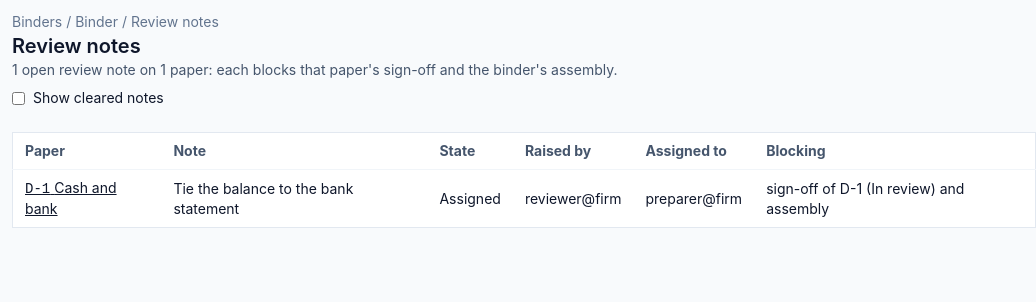
it: screen 3 lists what is open, who raised it, who holds it, and what it blocks
expect the heading "Review notes" is shown: met, box [12,34,141,58]
expect the text with test id "summary" shows "1 open review note on 1 paper": met, box [12,61,618,78]
Click the checkbox labelled "Show cleared notes" at (18, 98), box [12,92,25,104]
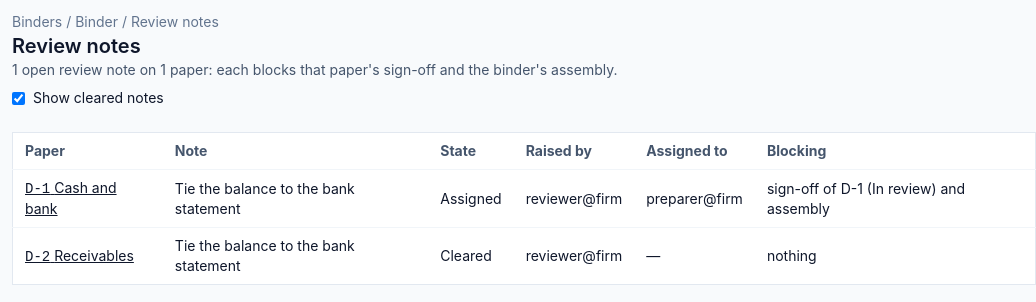
expect the number of rows with test id "note-row" is 2: met, box [12,170,1035,228]; [12,228,1035,284]
expect the row with test id "note-row" shows "nothing": met, box [767,247,817,264]
